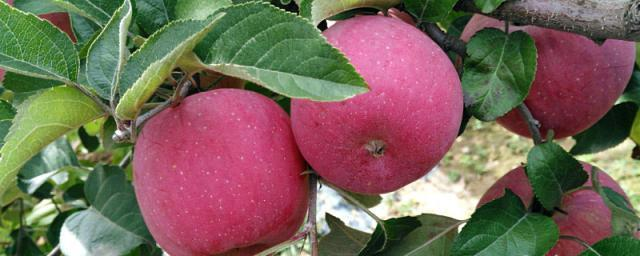apple: (289, 10, 466, 196), (133, 89, 307, 255), (465, 7, 637, 140)
